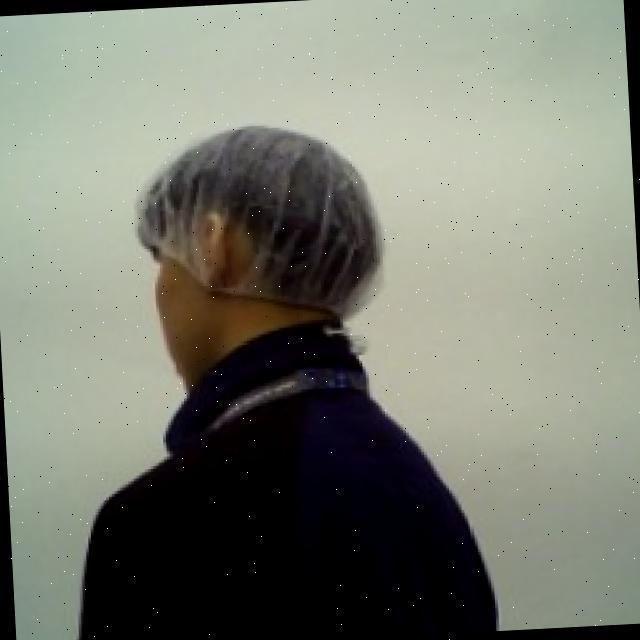gloves: (126, 114, 393, 336)
